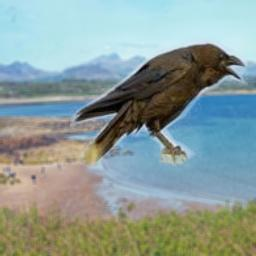Crow: (70, 36, 248, 166)
